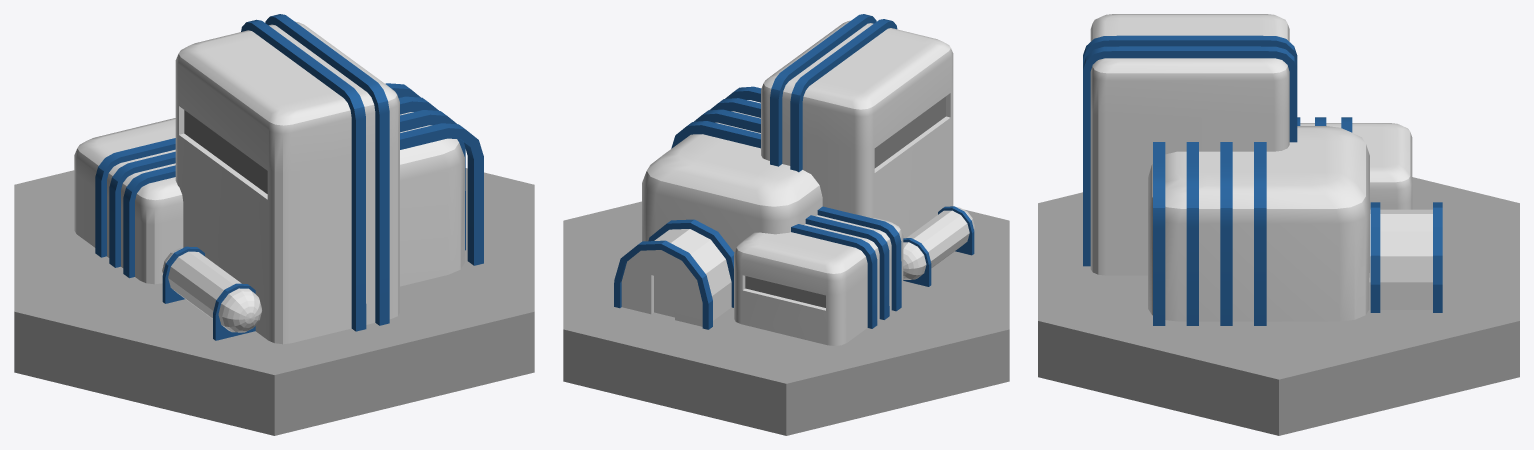
File: Office.fbx
The picture shows the model from 3 angles, left to right: view 1: azimuth 30°, elevation 25°; view 2: azimuth 150°, elevation 25°; view 3: azimuth 270°, elevation 25°; orthographic projection. The views are drawn at different scales.
Parts seen in each view (by area): view 1: polySurface127, pCylinder2; view 2: polySurface127, pCylinder2; view 3: polySurface127, pCylinder2.
Part boxes in pixels (<box>): polySurface127: <box>74,14,483,344</box>; pCylinder2: <box>14,168,534,435</box>; polySurface127: <box>614,14,974,345</box>; pCylinder2: <box>563,201,1009,435</box>; polySurface127: <box>1083,14,1442,325</box>; pCylinder2: <box>1038,177,1519,435</box>.
Size of the model in its own units: 14.65 by 7.89 by 12.69.
